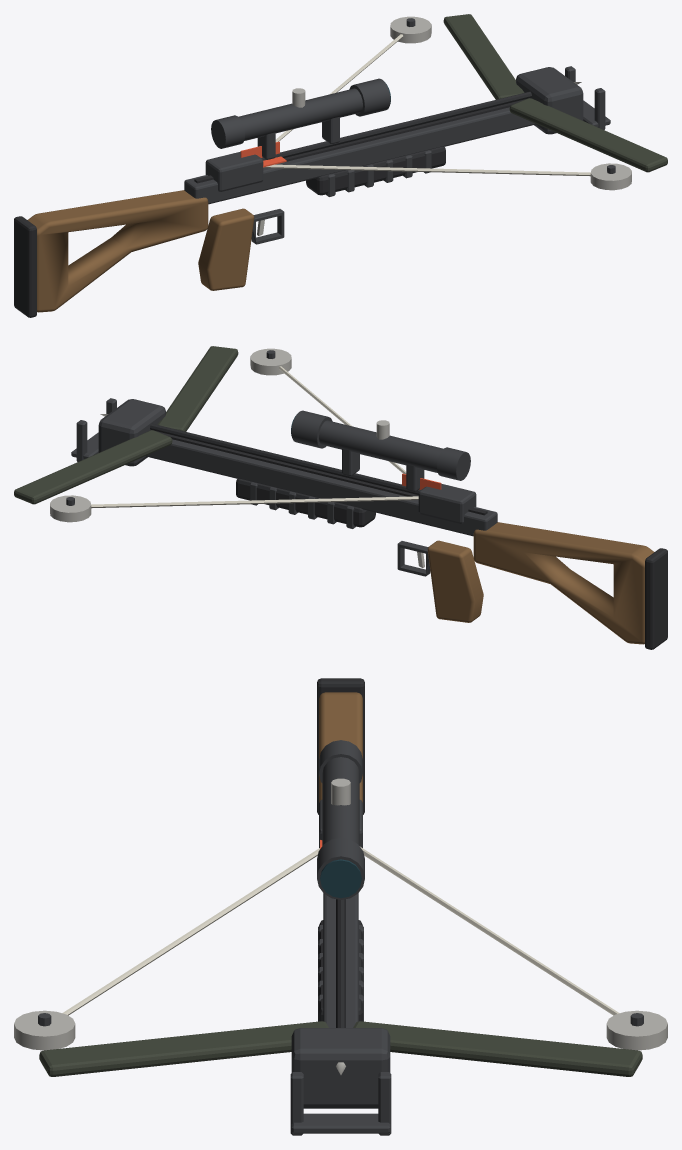
The model's file is crossbow.glb.
3 renders of one model, top to bottom at view 1: azimuth 30°, elevation 25°; view 2: azimuth 150°, elevation 25°; view 3: azimuth 270°, elevation 25°, orthographic. The views are drawn at different scales.
Parts seen in each view (by area): view 1: gun_frame, gun_mag, gun_slide; view 2: gun_frame, gun_mag, gun_slide; view 3: gun_frame, gun_slide, gun_mag.
Boxes of the visible parts, x1=… form: gun_frame: x1=14, y1=14, x2=667, y2=317; gun_mag: x1=240, y1=82, x2=581, y2=167; gun_slide: x1=565, y1=66, x2=610, y2=129; gun_frame: x1=14, y1=346, x2=667, y2=649; gun_mag: x1=100, y1=414, x2=441, y2=494; gun_slide: x1=71, y1=398, x2=116, y2=461; gun_frame: x1=14, y1=678, x2=667, y2=1108; gun_slide: x1=290, y1=1072, x2=391, y2=1135; gun_mag: x1=320, y1=840, x2=345, y2=1074.
Size of the model in its own units: 0.892 by 0.265 by 0.596.
